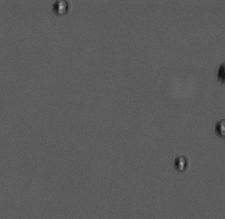Living Cell: (52, 1, 70, 15), (174, 155, 189, 171)
